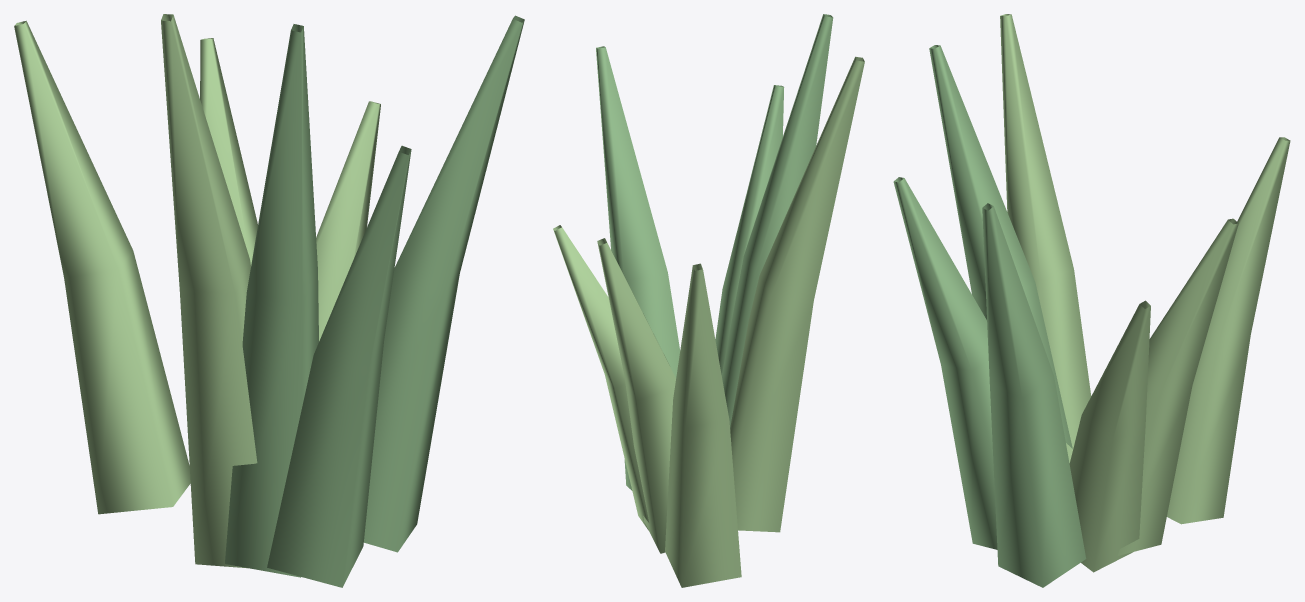
The model's file is grass_tuft_a.glb.
3 views of the same model, side by side, from view 1: azimuth 30°, elevation 25°; view 2: azimuth 150°, elevation 25°; view 3: azimuth 270°, elevation 25° (orthographic). The views are drawn at different scales.
Parts seen in each view (by area): view 1: grass_tuft_a; view 2: grass_tuft_a; view 3: grass_tuft_a.
Part boxes in pixels (<box>): grass_tuft_a: <box>14,14,524,587</box>; grass_tuft_a: <box>553,14,864,587</box>; grass_tuft_a: <box>893,14,1290,587</box>.
Size of the model in its own units: 0.2188 by 0.354 by 0.2695.
